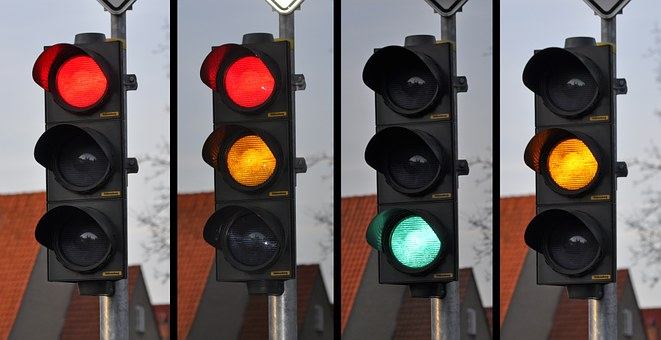trafic: (42, 44, 125, 278), (205, 37, 288, 271), (376, 45, 459, 279), (532, 46, 615, 280)
